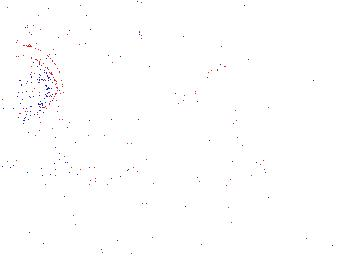moon jellyfish: (133, 1, 208, 101), (184, 11, 257, 88), (1, 42, 66, 118)
